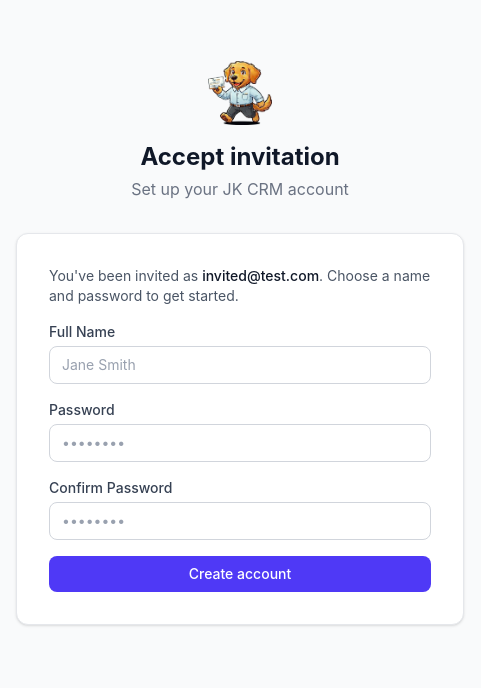
Test: AcceptInvitePage › shows error when accept invite fails
This screenshot has width=481, height=688.
In the field labelled "Full Name": x=240, y=365 49,346 -> 431,384, type "New User"
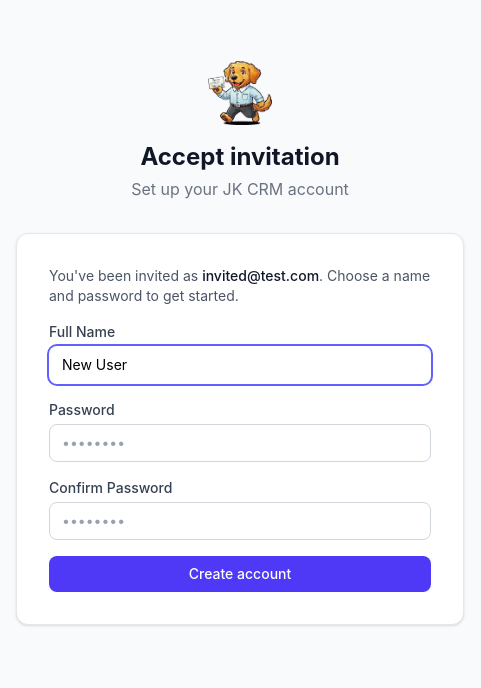
In the password field labelled "Password": x=240, y=443 49,424 -> 431,462, type "password123"
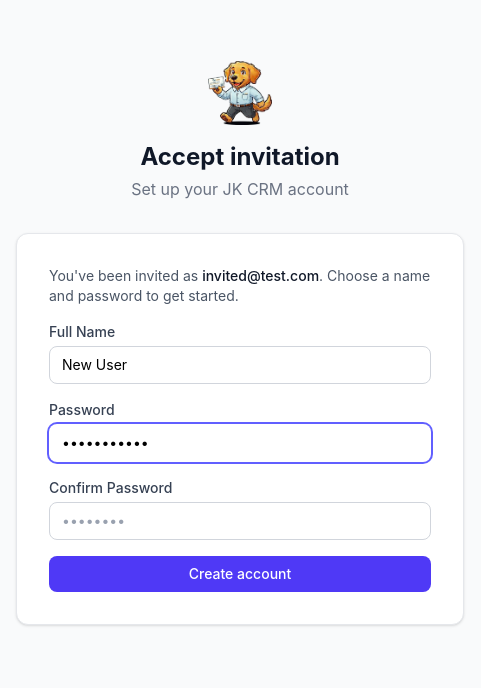
In the password field labelled "Confirm Password": x=240, y=521 49,502 -> 431,540, type "password123"
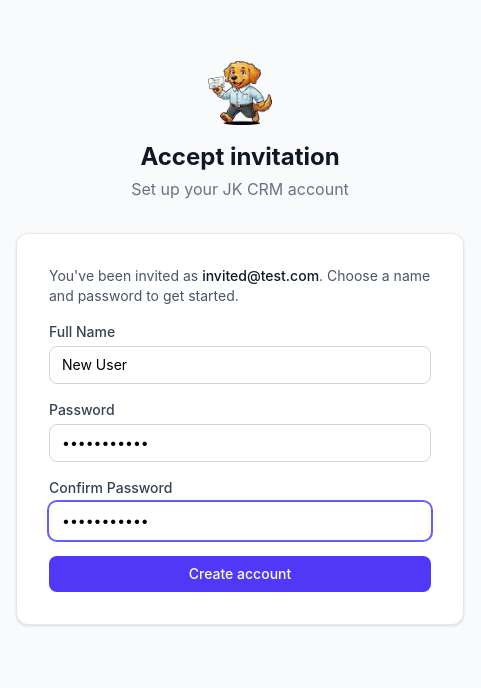
Click the button "Create account": x=240, y=574 49,556 -> 431,592
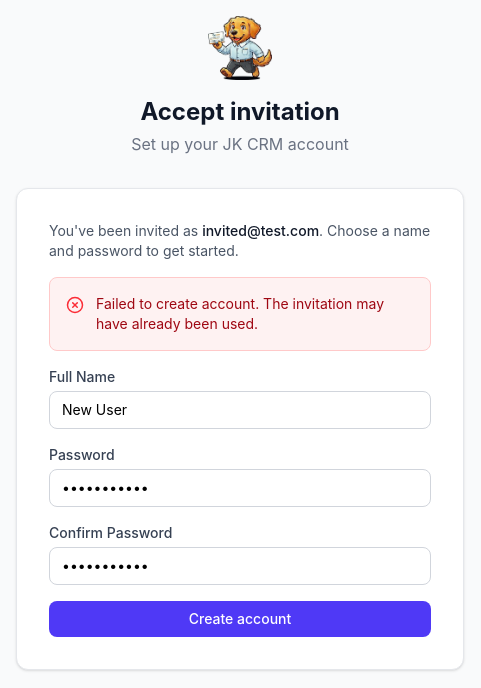
Check: the text "Failed to create account" is shown, box 96,295 -> 384,332
